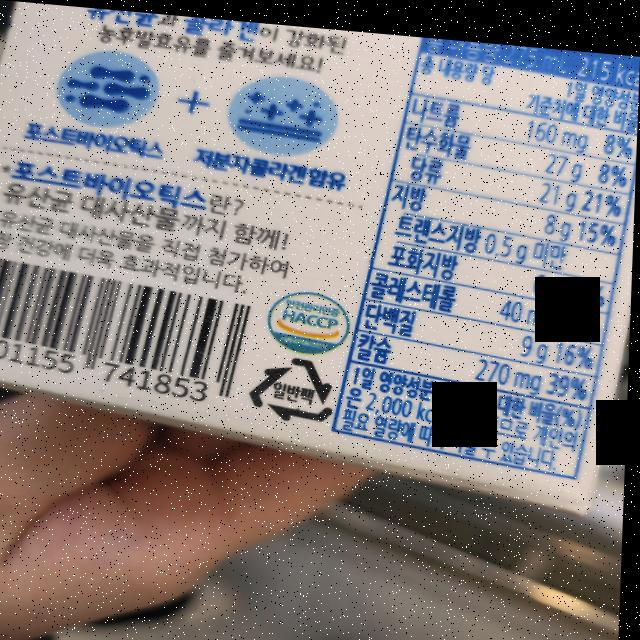NormalPack: (251, 346, 339, 420)
